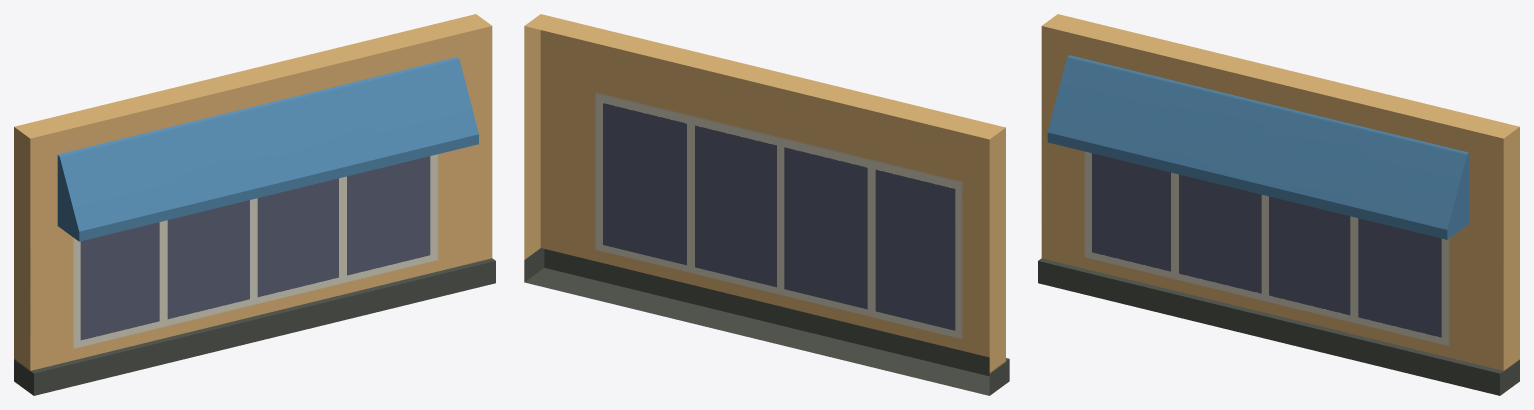
Rendered from M_3W_2F_building_store2.fbx.
The picture shows the model from 3 angles, left to right: view 1: azimuth 30°, elevation 25°; view 2: azimuth 150°, elevation 25°; view 3: azimuth 330°, elevation 25°; orthographic projection.
Parts seen in each view (by area): view 1: Object052; view 2: Object052; view 3: Object052.
Boxes of the visible parts, box(x1,y1,x2,y2) form: Object052: box(14, 14, 495, 395); Object052: box(524, 14, 1009, 395); Object052: box(1038, 14, 1519, 395).
Bounding box in the file's own units: 1733 × 913 × 245.
